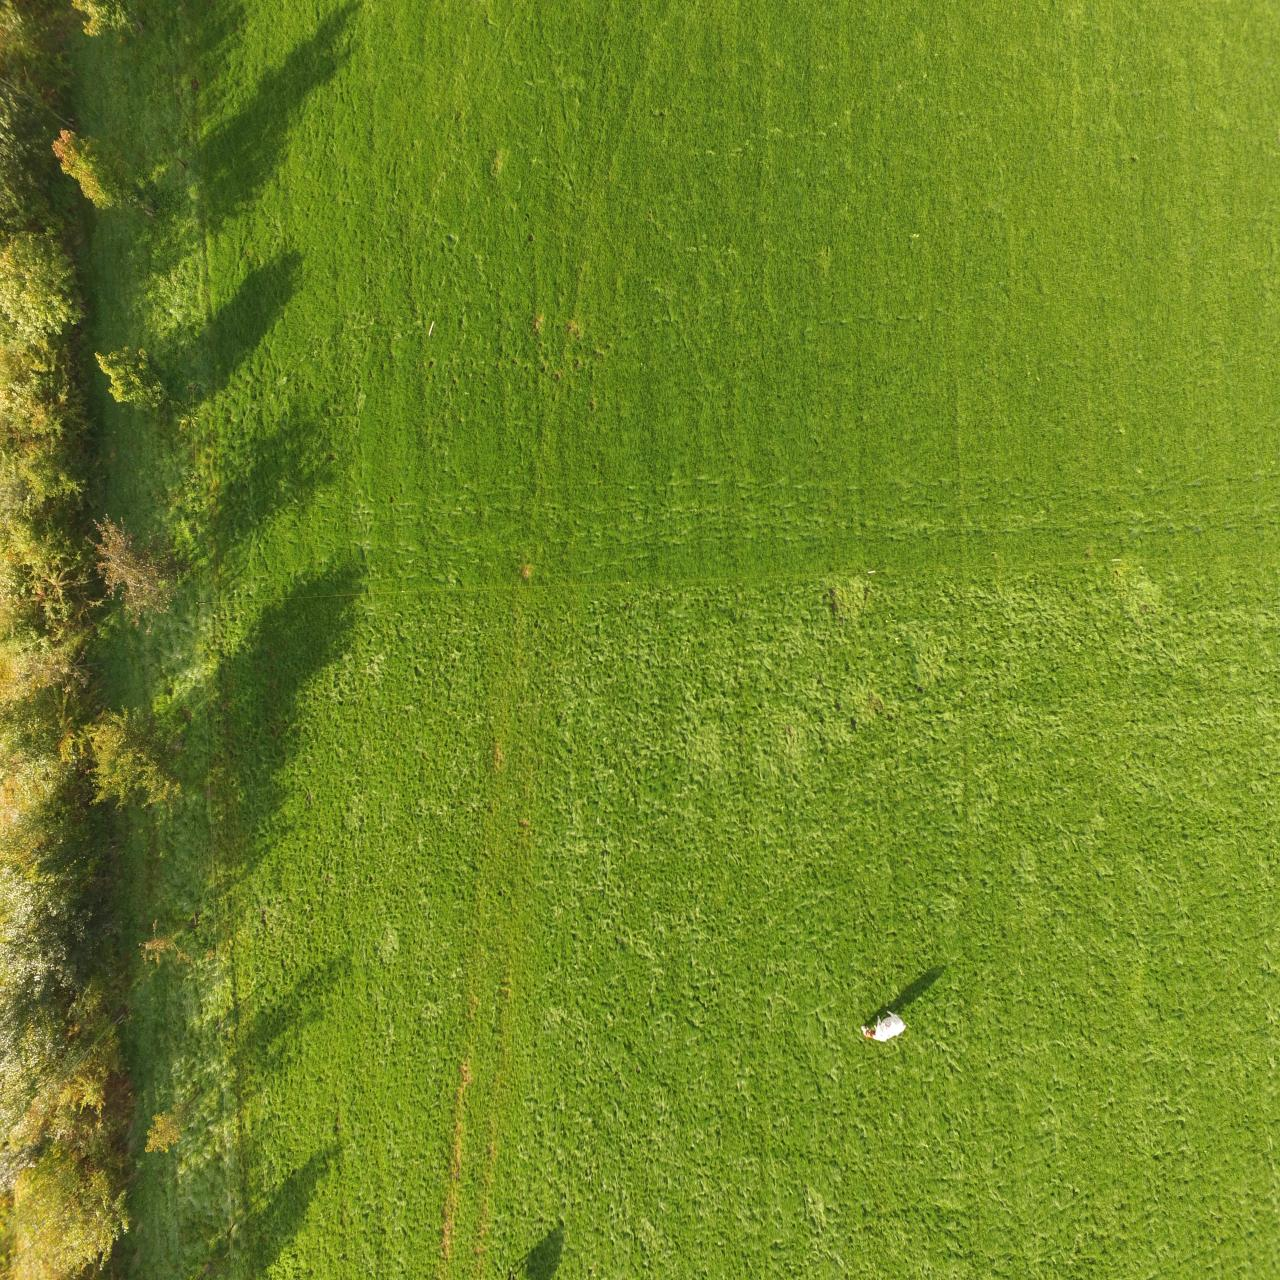cow: (859, 1006, 907, 1044)
